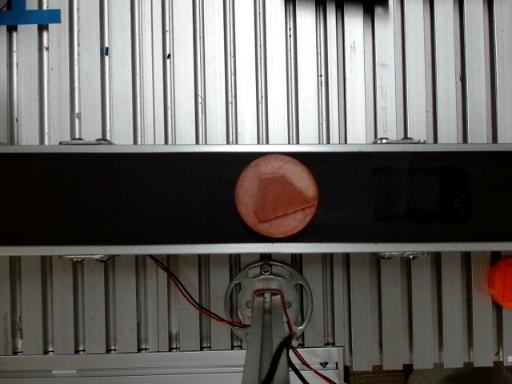Brown_Waper: (235, 154, 318, 237)
Not_Square: (253, 174, 312, 221)
